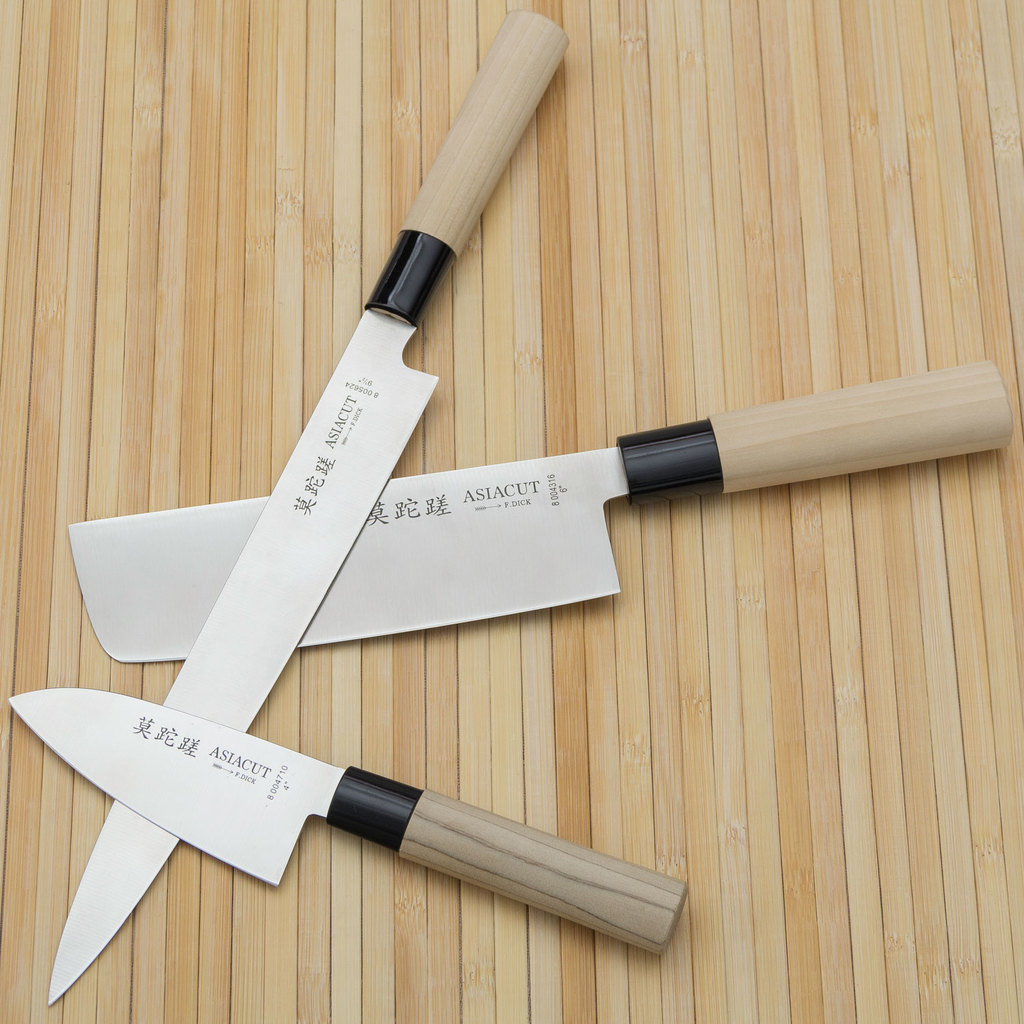kitchen knife: (40, 2, 576, 1005), (6, 679, 688, 957)
